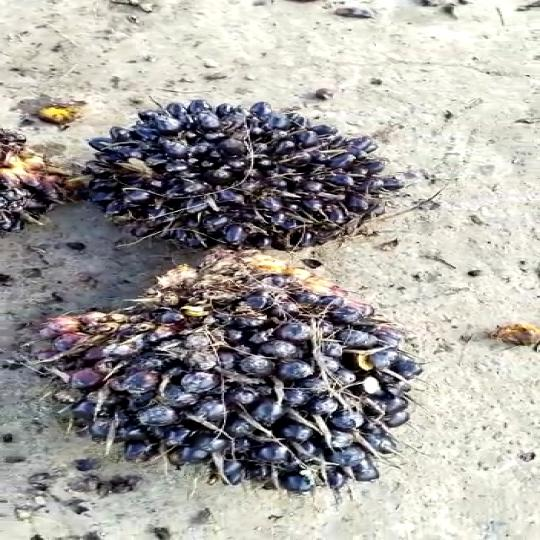mentah: (43, 261, 414, 491), (75, 90, 387, 258)
